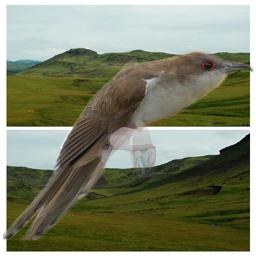Cuckoo: (3, 51, 254, 240)
